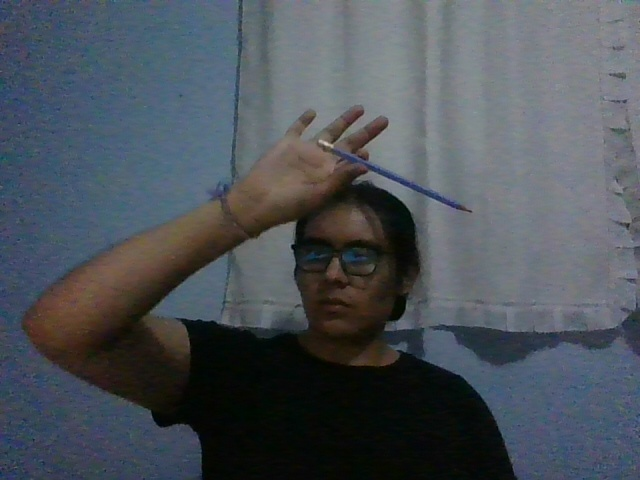lapiz: (316, 139, 474, 213)
